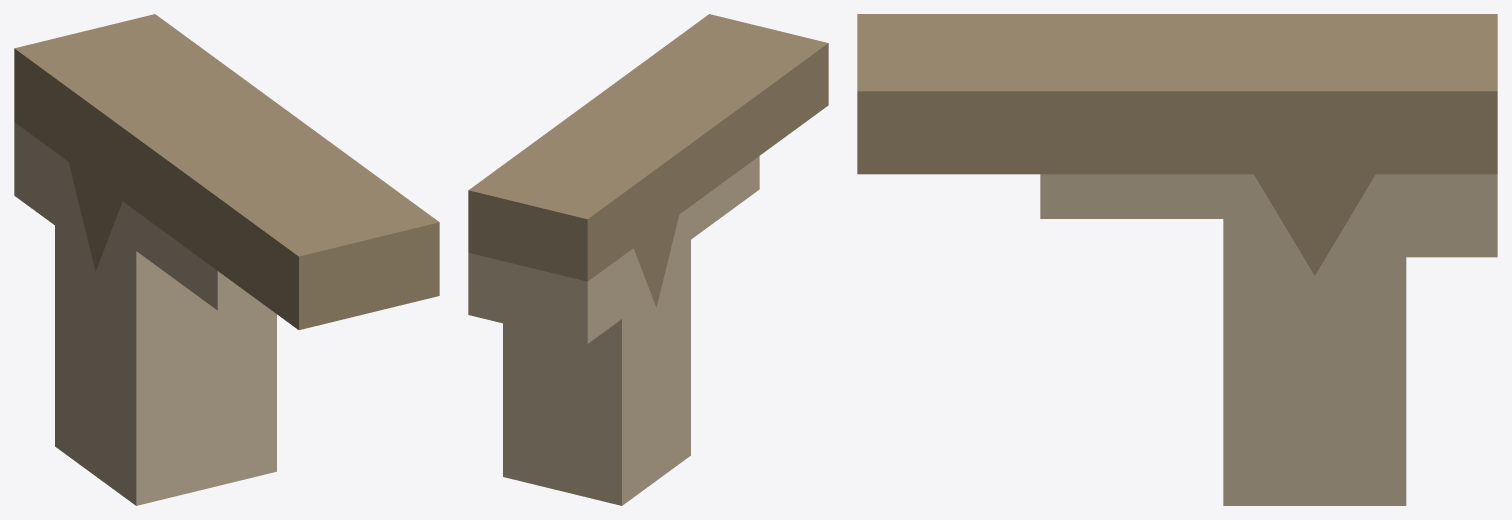
The model's file is LightSandStoneArchSmallBrokenArchway1.fbx.
3 views of the same model, side by side, from view 1: azimuth 30°, elevation 25°; view 2: azimuth 150°, elevation 25°; view 3: azimuth 270°, elevation 25° (orthographic). The views are drawn at different scales.
Visible parts, largest first — view 1: LightSandStoneArchSmallBrokenArchway1; view 2: LightSandStoneArchSmallBrokenArchway1; view 3: LightSandStoneArchSmallBrokenArchway1.
Boxes of the visible parts, box(x1,y1,x2,y2) form: LightSandStoneArchSmallBrokenArchway1: box(14, 14, 439, 505); LightSandStoneArchSmallBrokenArchway1: box(468, 14, 828, 505); LightSandStoneArchSmallBrokenArchway1: box(857, 14, 1497, 505).
Bounding box in the file's own units: 200 × 500 × 700.
